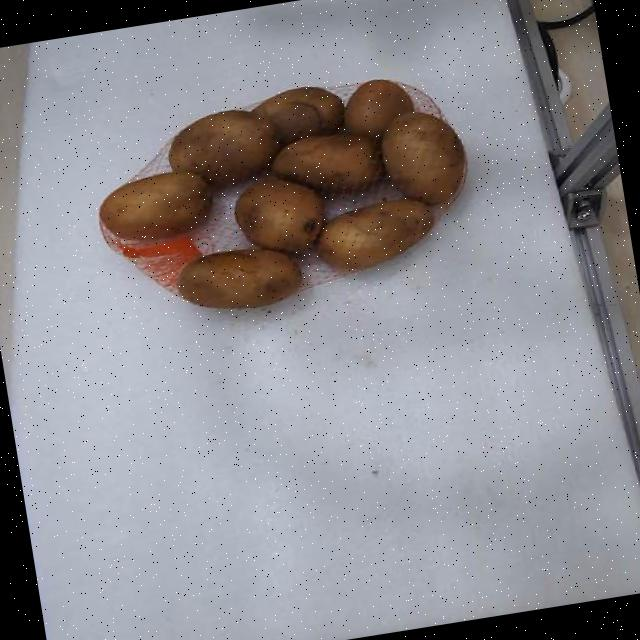potato: (169, 109, 281, 185), (320, 198, 432, 269), (381, 110, 463, 204), (100, 171, 211, 240), (179, 248, 302, 308), (235, 178, 325, 253), (272, 135, 384, 191), (255, 86, 344, 143), (344, 78, 413, 137)
